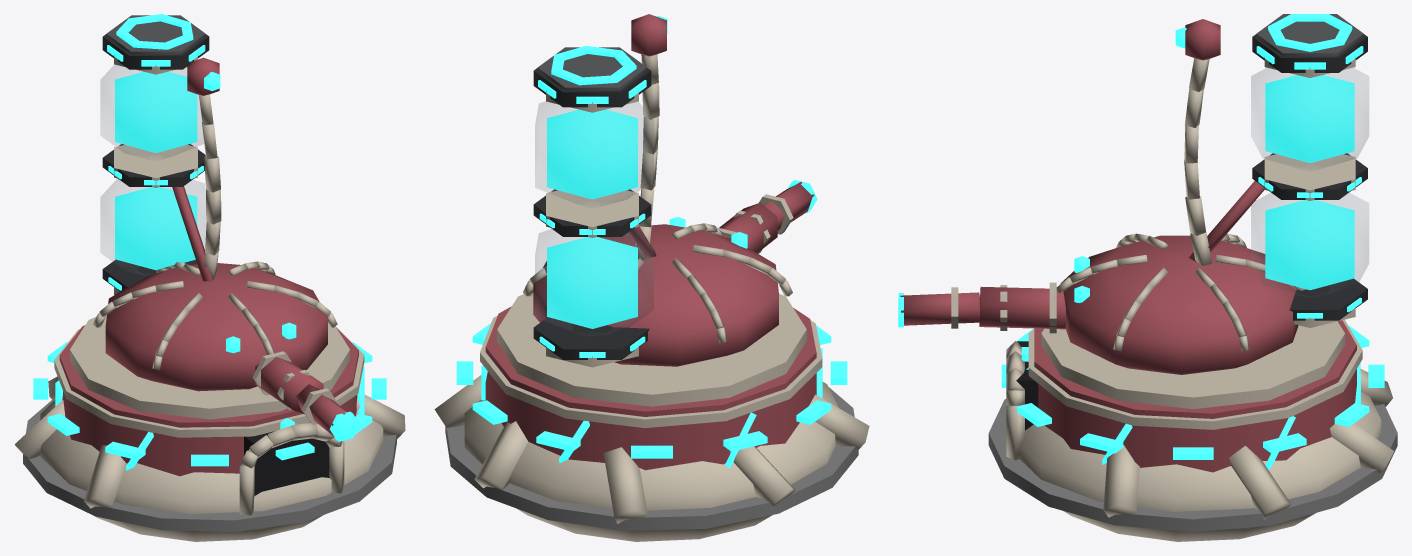
File: Machinegoon_T1_Spitter.glb
The picture shows the model from 3 angles, left to right: view 1: azimuth 30°, elevation 25°; view 2: azimuth 150°, elevation 25°; view 3: azimuth 270°, elevation 25°; orthographic projection. The views are drawn at different scales.
Parts seen in each view (by area): view 1: Machinegoon_T1_Spitter_Turret, Machinegoon_T1_Spitter_Base; view 2: Machinegoon_T1_Spitter_Turret, Machinegoon_T1_Spitter_Base; view 3: Machinegoon_T1_Spitter_Turret, Machinegoon_T1_Spitter_Base.
Boxes of the visible parts, left/top/right/bottom form: Machinegoon_T1_Spitter_Turret: left=70, top=14, right=359, bottom=441; Machinegoon_T1_Spitter_Base: left=14, top=325, right=405, bottom=541; Machinegoon_T1_Spitter_Turret: left=497, top=14, right=817, bottom=406; Machinegoon_T1_Spitter_Base: left=434, top=306, right=869, bottom=541; Machinegoon_T1_Spitter_Turret: left=898, top=14, right=1368, bottom=409; Machinegoon_T1_Spitter_Base: left=988, top=319, right=1397, bottom=541.
Bounding box in the file's own units: 3.5 × 4.58 × 4.28.
